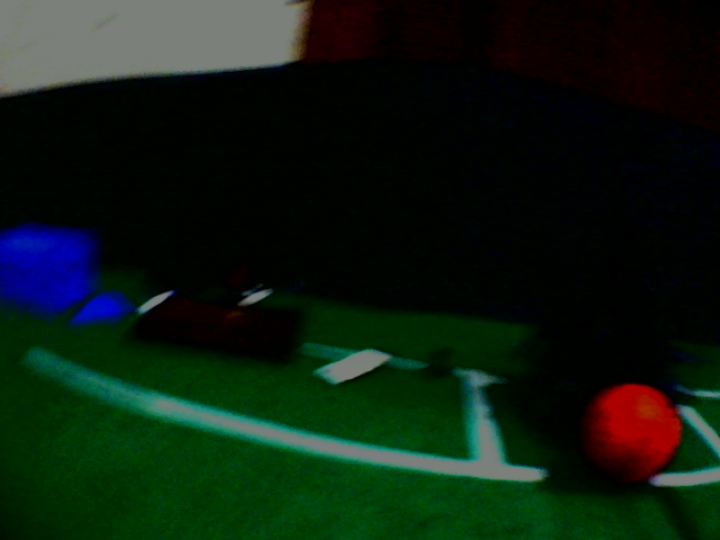bola: (584, 377, 689, 491)
